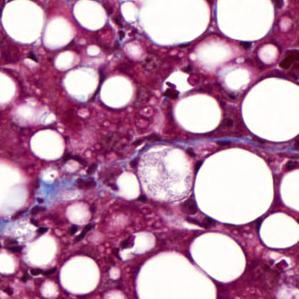steatosis: (192, 148, 278, 225), (240, 78, 299, 138), (170, 89, 224, 132), (100, 70, 139, 111)
